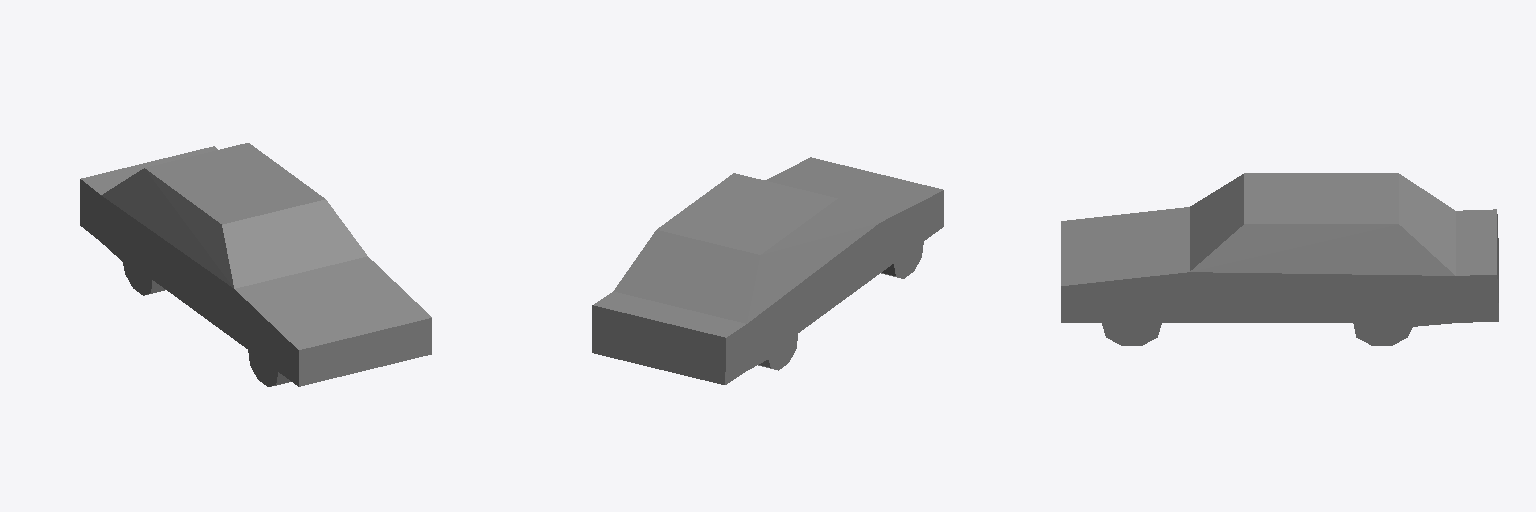
File: auto.obj
The picture shows the model from 3 angles: view 1: azimuth 30°, elevation 25°; view 2: azimuth 150°, elevation 25°; view 3: azimuth 270°, elevation 25°; orthographic projection.
Visible parts, largest first — view 1: car; view 2: car; view 3: car.
Part boxes in pixels (x1,y1,x2,y2): car: (80, 143, 431, 386); car: (592, 157, 943, 384); car: (1061, 173, 1498, 345).
Bounding box in the file's own units: 0.5944 × 0.4856 × 1.69.